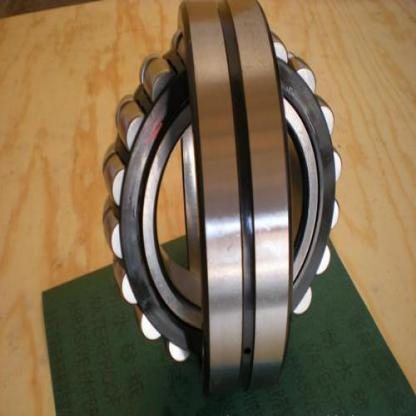FOD: (100, 0, 348, 402)
